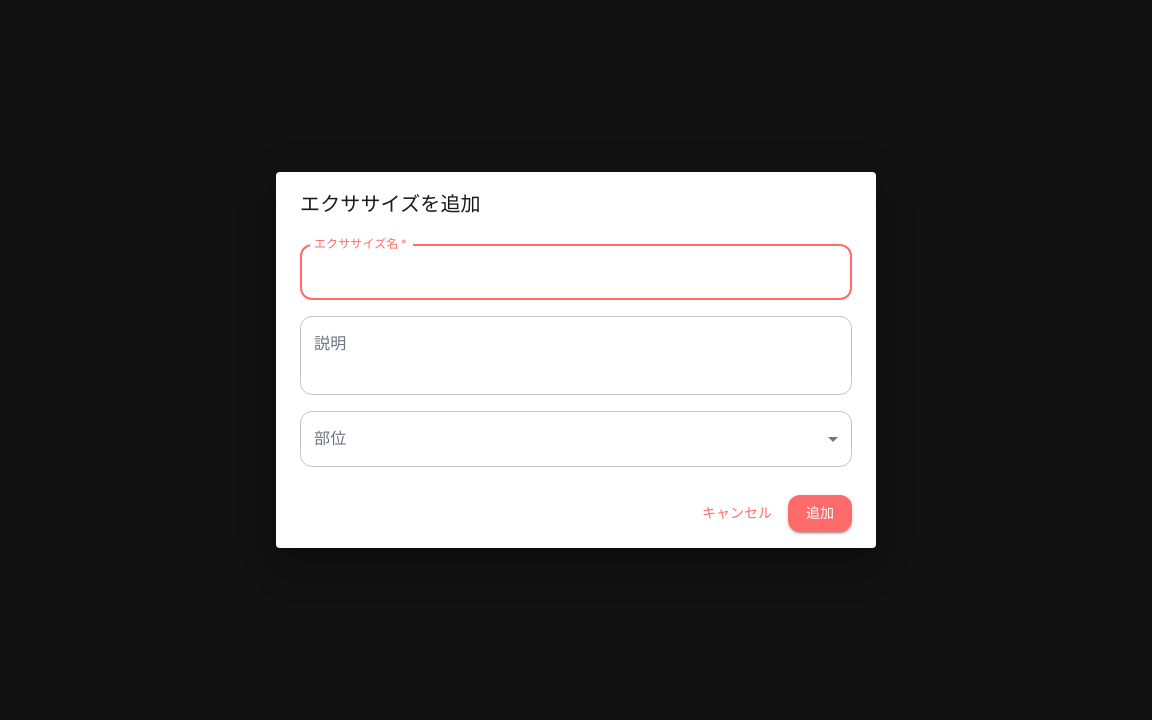
Test: ExerciseFormDialog › 名前未入力でsubmitするとエラーが出る
Click the button "追加" at (820, 514), box [788,495,852,532]
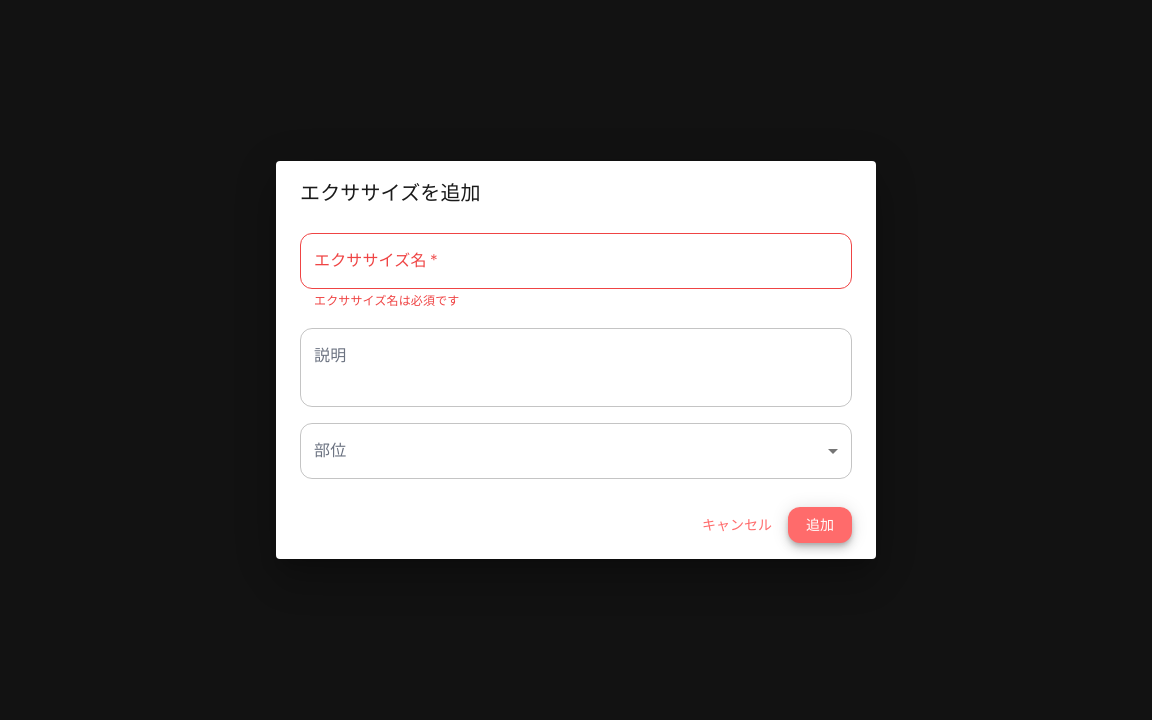
Check: the text "エクササイズ名は必須です" is shown, box [314,293,460,309]
